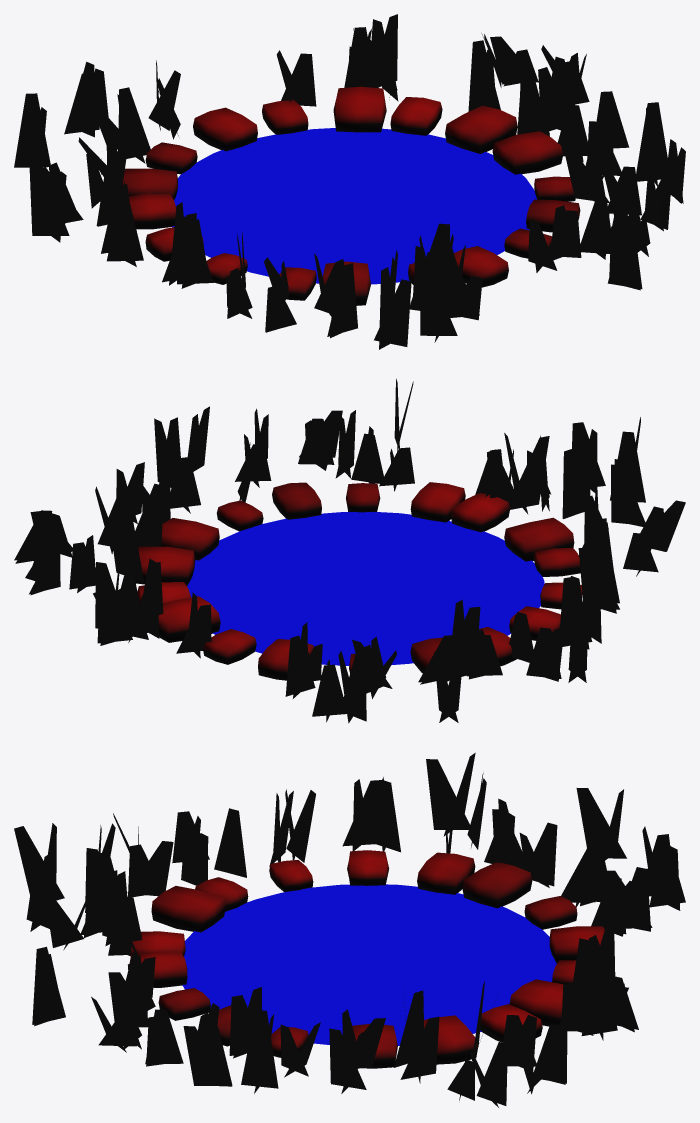
Rendered from seep_pool.glb.
3 renders of one model, top to bottom at view 1: azimuth 30°, elevation 25°; view 2: azimuth 150°, elevation 25°; view 3: azimuth 270°, elevation 25°, orthographic. The views are drawn at different scales.
Visible parts, largest first — view 1: seep_pool; view 2: seep_pool; view 3: seep_pool.
Part boxes in pixels (x1,y1,x2,y2): seep_pool: (14, 14, 685, 349); seep_pool: (14, 378, 685, 723); seep_pool: (14, 752, 685, 1107).
Size of what is drawn, in the model's own units: 8.75 by 1.21 by 8.7.
